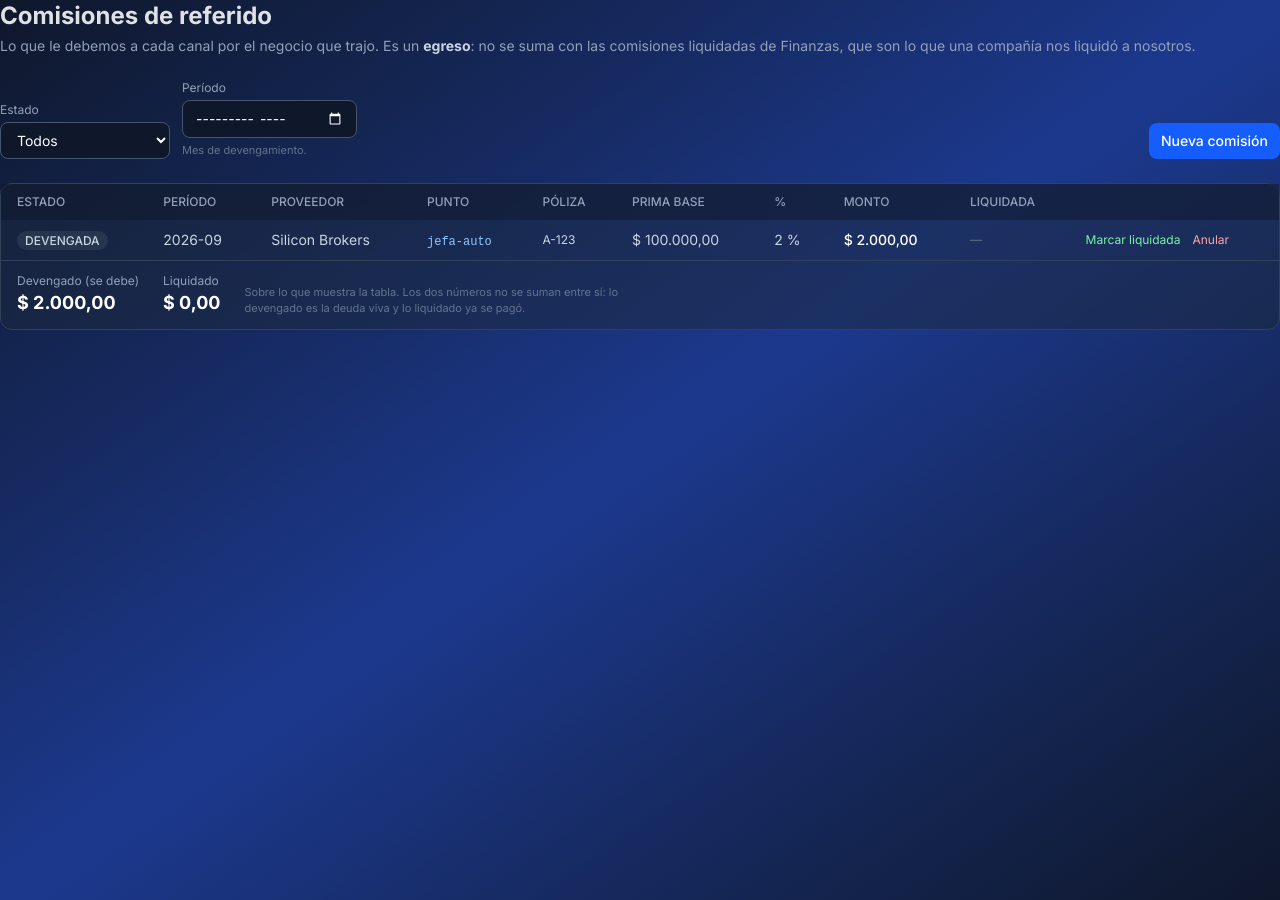
Test: marcar liquidada › pide confirmación antes de tocar nada
The image size is (1280, 900).
Expected: the text "A-123" is shown, x1=526 y1=220 x2=616 y2=260
Click the button "Marcar liquidada".
click(1133, 240)  # box x1=1086 y1=232 x2=1180 y2=248
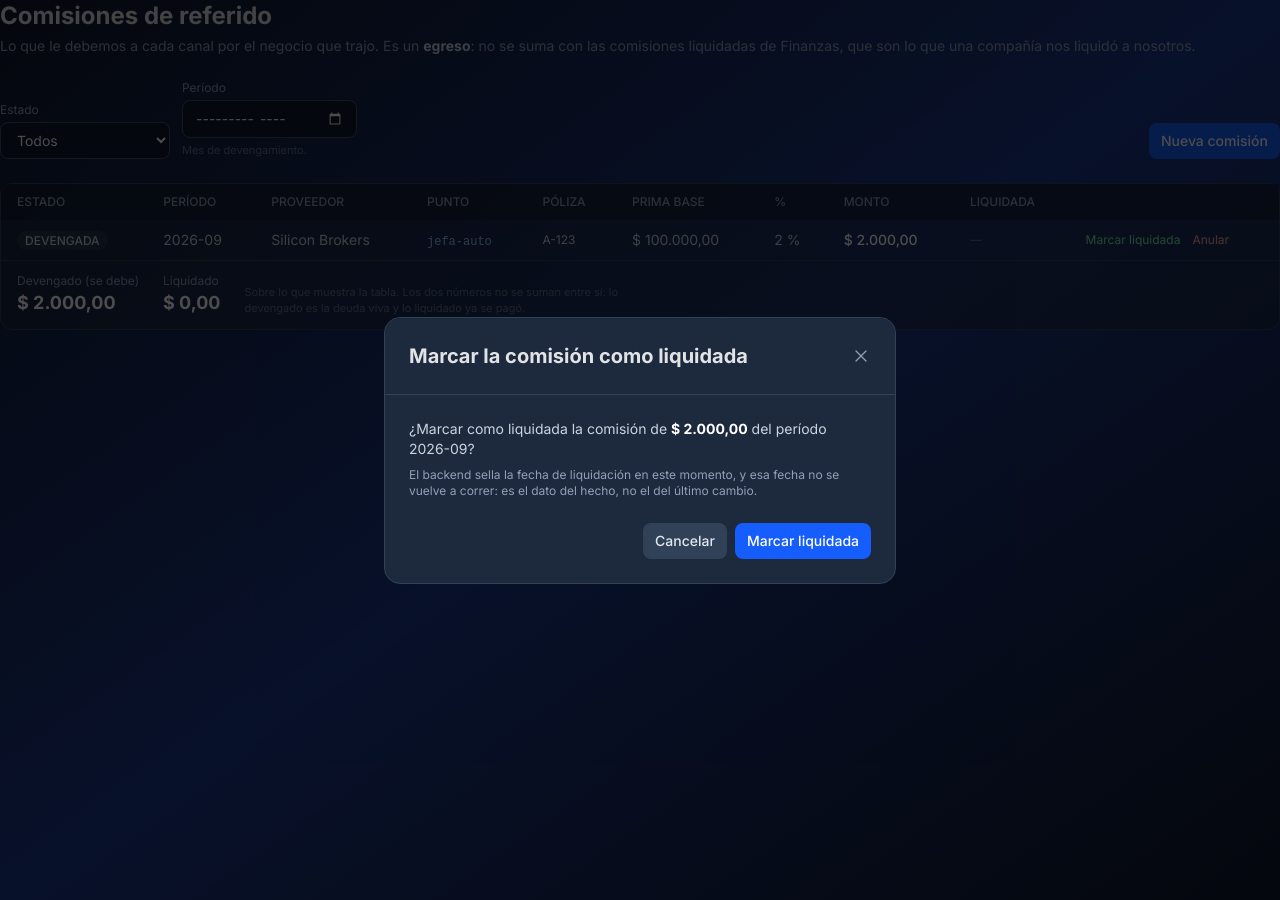
Result: the heading "Marcar la comisión como liquidada" is shown at x1=409 y1=342 x2=748 y2=370
